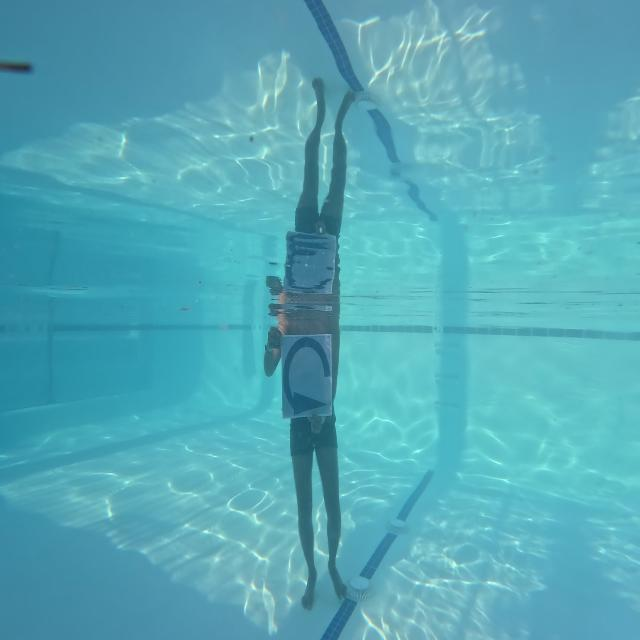blue_side: (282, 332, 334, 422)
